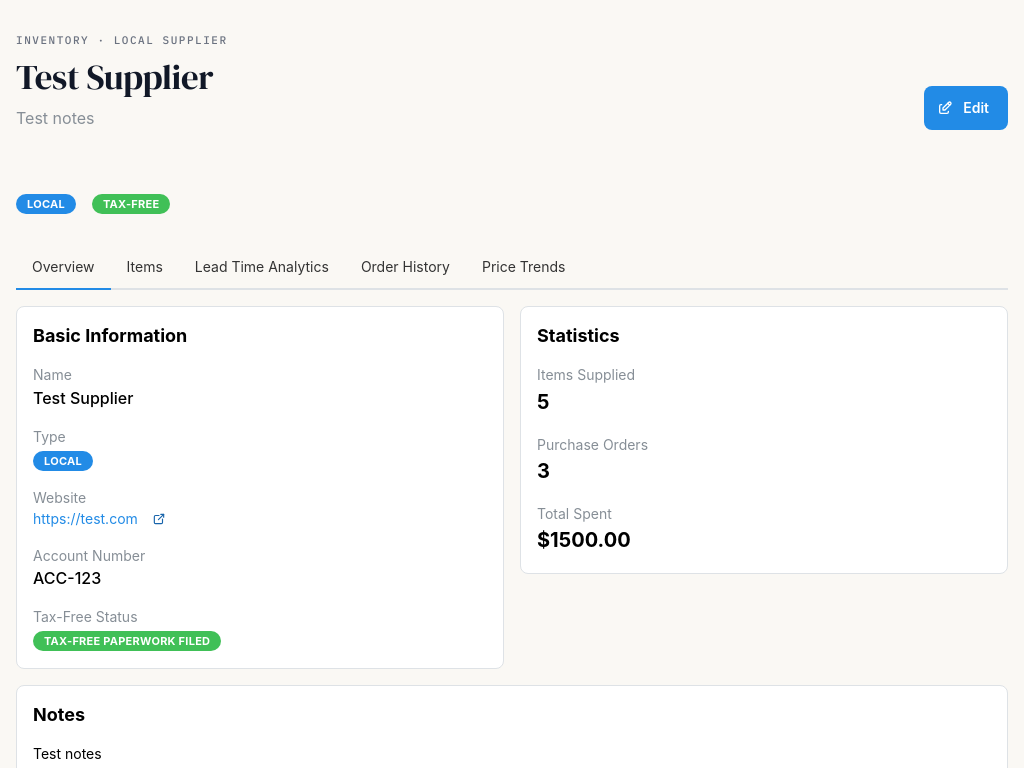
Scenario: SupplierDetailPage › displays order history tab
expect the heading "Test Supplier" is shown: met, box [16, 53, 213, 101]
Click the tab "Order History": x=405, y=268 [345, 246, 466, 290]
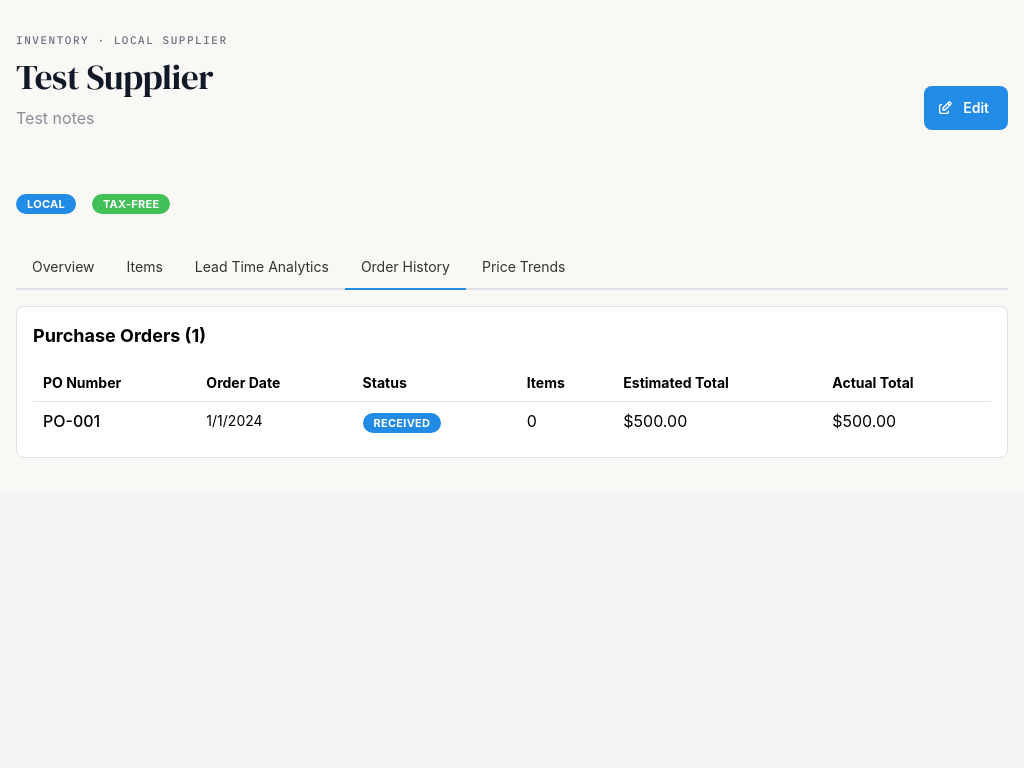
expect the text "PO-001" is shown: met, box [43, 411, 100, 431]
